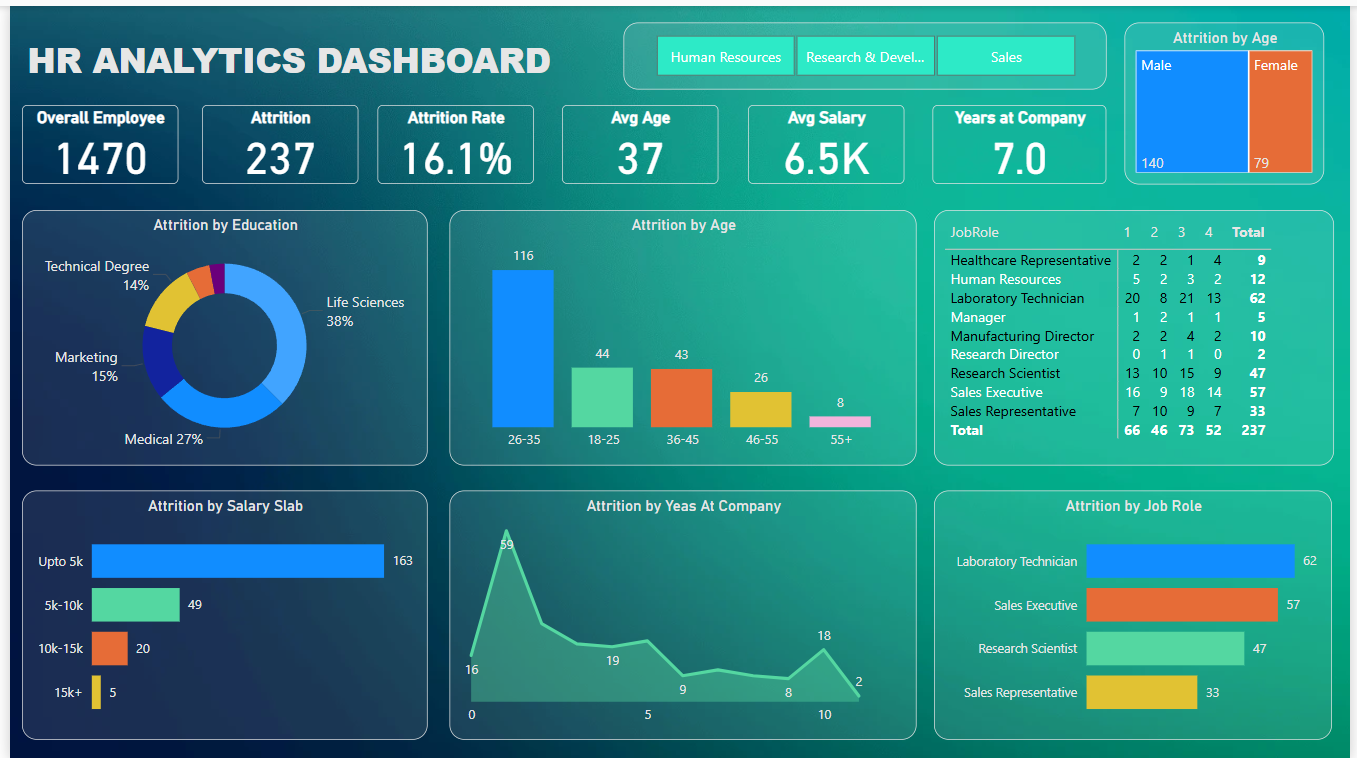

The dashboard page shown, as its layout file describes it:
{"tool":"powerbi","page":{"name":"Page 1","canvas":[1280,720],"ordinal":0},"visuals":[{"type":"card","title":"Overall Employee","fields":{"Values":["CountNonNull(HR_Analytics.EmpID)"]},"box":[11.3,94.6,149.3,75.6],"z":0},{"type":"card","title":"Attrition","fields":{"Values":["Sum(HR_Analytics.AttritionCount)"]},"box":[183.3,94.5,149.3,75.6],"z":1000},{"type":"card","title":"Attrition Rate","fields":{"Values":["HR_Analytics.AttritionRate"]},"box":[351.5,94.5,149.3,75.6],"z":2000},{"type":"card","title":"Avg Age","fields":{"Values":["Avg(HR_Analytics.Age)"]},"box":[527.2,94.5,149.3,75.6],"z":3000},{"type":"card","title":"Avg Salary","fields":{"Values":["Avg(HR_Analytics.MonthlyIncome)"]},"box":[704.9,94.5,149.3,75.6],"z":4000},{"type":"card","title":"Years at Company","fields":{"Values":["Avg(HR_Analytics.YearsAtCompany)"]},"box":[880.6,94.5,166.3,75.6],"z":5000},{"type":"donutChart","title":"Attrition by Education","fields":{"Y":["Sum(HR_Analytics.AttritionCount)"],"Category":["HR_Analytics.EducationField"]},"box":[11.3,194.6,387.4,243.8],"z":6000},{"type":"columnChart","title":"Attrition by Age","fields":{"Category":["HR_Analytics.AgeGroup"],"Y":["Sum(HR_Analytics.AttritionCount)"]},"box":[419.5,194.6,446,243.8],"z":7000},{"type":"pivotTable","fields":{"Rows":["HR_Analytics.JobRole"],"Columns":["HR_Analytics.JobSatisfaction"],"Values":["Sum(HR_Analytics.AttritionCount)"]},"box":[882.5,194.6,381.7,243.8],"z":8000},{"type":"barChart","title":"Attrition by Salary Slab","fields":{"Category":["HR_Analytics.SalarySlab"],"Y":["Sum(HR_Analytics.AttritionCount)"]},"box":[11.3,463,387.4,238.1],"z":9000},{"type":"barChart","title":"Attrition by Job Role","fields":{"Y":["Sum(HR_Analytics.AttritionCount)"],"Category":["HR_Analytics.JobRole"]},"box":[882.5,463,379.8,238.1],"z":10000},{"type":"areaChart","title":"Attrition by Yeas At Company","fields":{"Category":["HR_Analytics.YearsAtCompany"],"Y":["Sum(HR_Analytics.AttritionCount)"]},"box":[419.5,463,446,238.1],"z":11000},{"type":"treemap","title":"Attrition by Age","fields":{"Group":["HR_Analytics.Gender"],"Values":["Sum(HR_Analytics.AttritionCount)"]},"box":[1063.9,15.1,190.9,155],"z":12000},{"type":"slicer","fields":{"Values":["HR_Analytics.Department"]},"box":[585.8,15.1,461.1,64.3],"z":13000},{"type":"textbox","box":[11.3,22.7,572.6,60.5],"z":14000}]}

Visuals, with their boxes in screenshot pixels (x1, y1, x2, y2), scaled from the page's 1280x720 canvas onto the 1357x758 screenshot:
"Overall Employee" card: 12, 100, 170, 179
"Attrition" card: 194, 99, 353, 179
"Attrition Rate" card: 373, 99, 531, 179
"Avg Age" card: 559, 99, 717, 179
"Avg Salary" card: 747, 99, 906, 179
"Years at Company" card: 934, 99, 1110, 179
"Attrition by Education" donutChart: 12, 205, 423, 462
"Attrition by Age" columnChart: 445, 205, 918, 462
pivotTable - HR_Analytics.JobRole x HR_Analytics.JobSatisfaction: 936, 205, 1340, 462
"Attrition by Salary Slab" barChart: 12, 487, 423, 738
"Attrition by Job Role" barChart: 936, 487, 1338, 738
"Attrition by Yeas At Company" areaChart: 445, 487, 918, 738
"Attrition by Age" treemap: 1128, 16, 1330, 179
slicer - HR_Analytics.Department: 621, 16, 1110, 84
textbox: 12, 24, 619, 88
